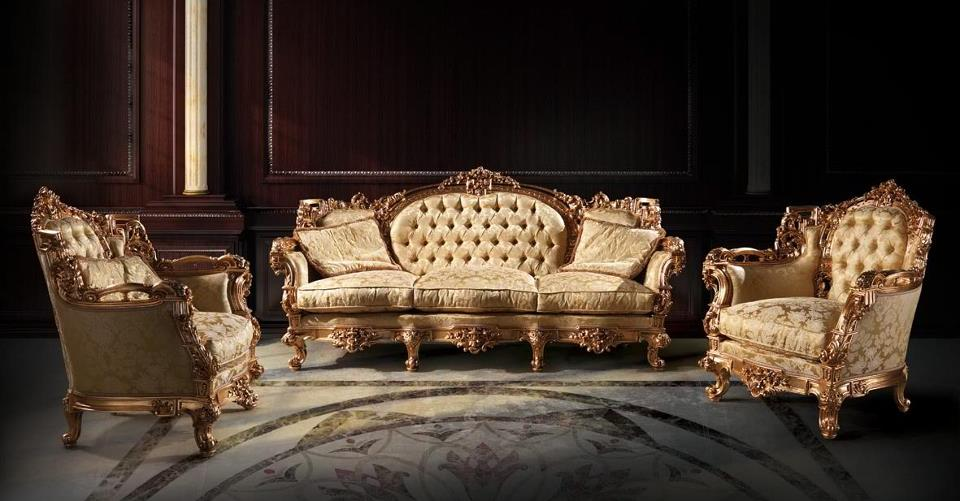Carving Chair: (273, 172, 695, 371), (16, 191, 275, 473), (701, 195, 930, 432)
